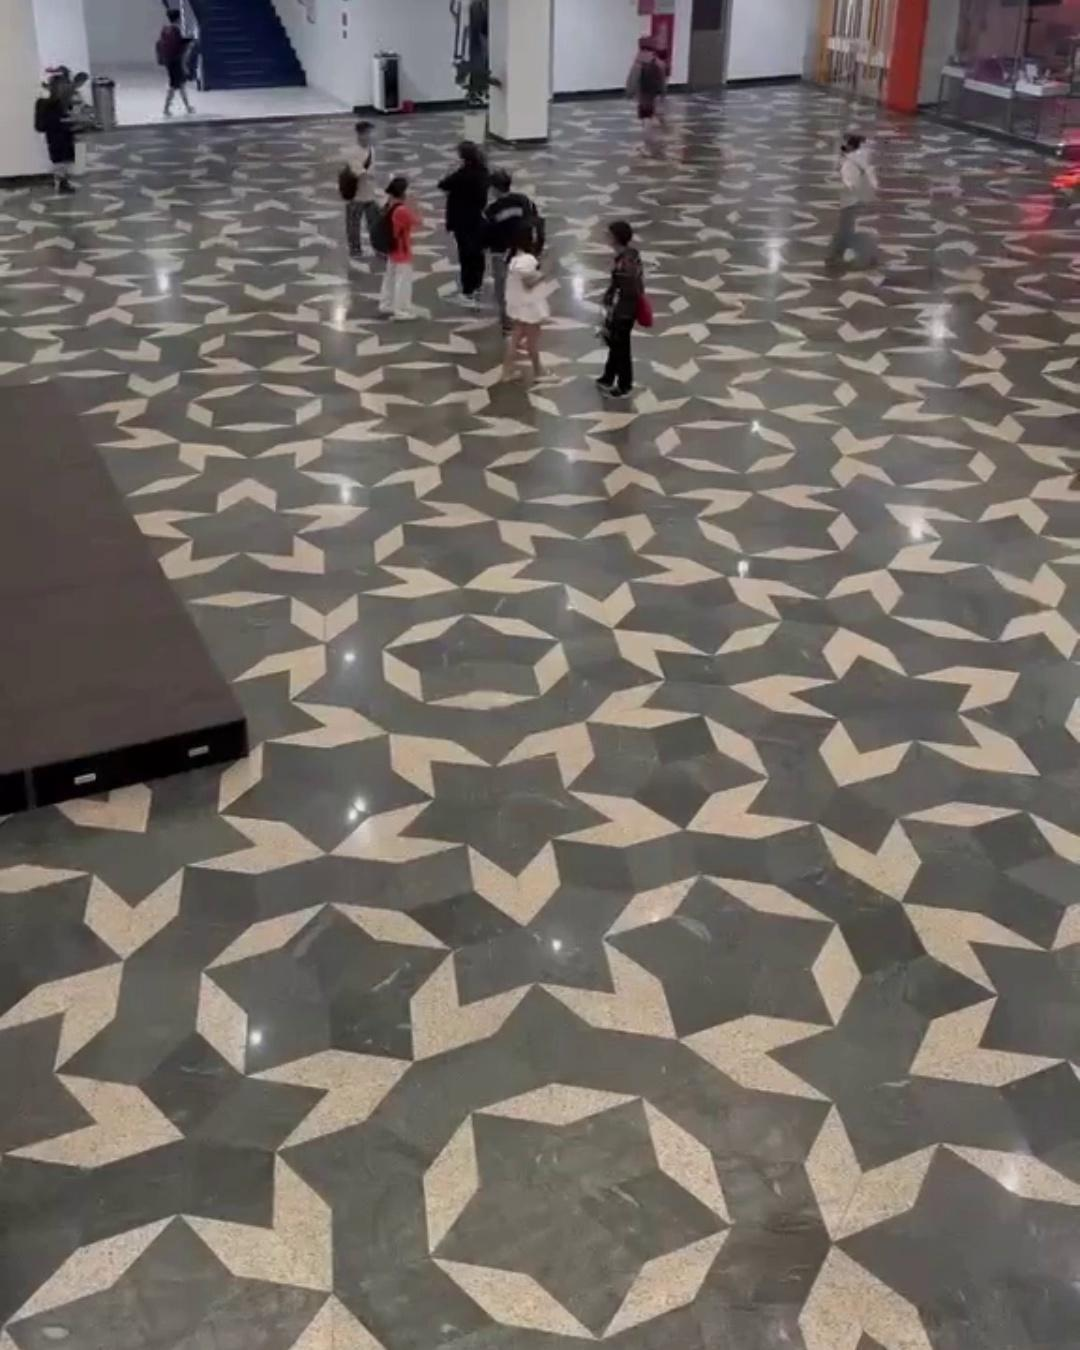your_class: (575, 205, 694, 409), (300, 96, 406, 279), (800, 110, 904, 289), (37, 37, 132, 205), (477, 158, 550, 333), (440, 120, 512, 283), (613, 23, 688, 168), (505, 218, 566, 389), (140, 3, 222, 129), (385, 179, 440, 310)
